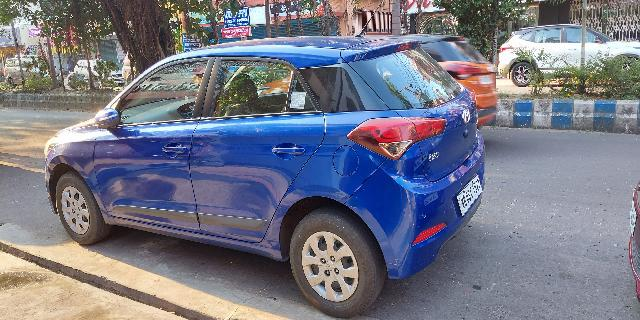Car: (43, 32, 489, 311)
